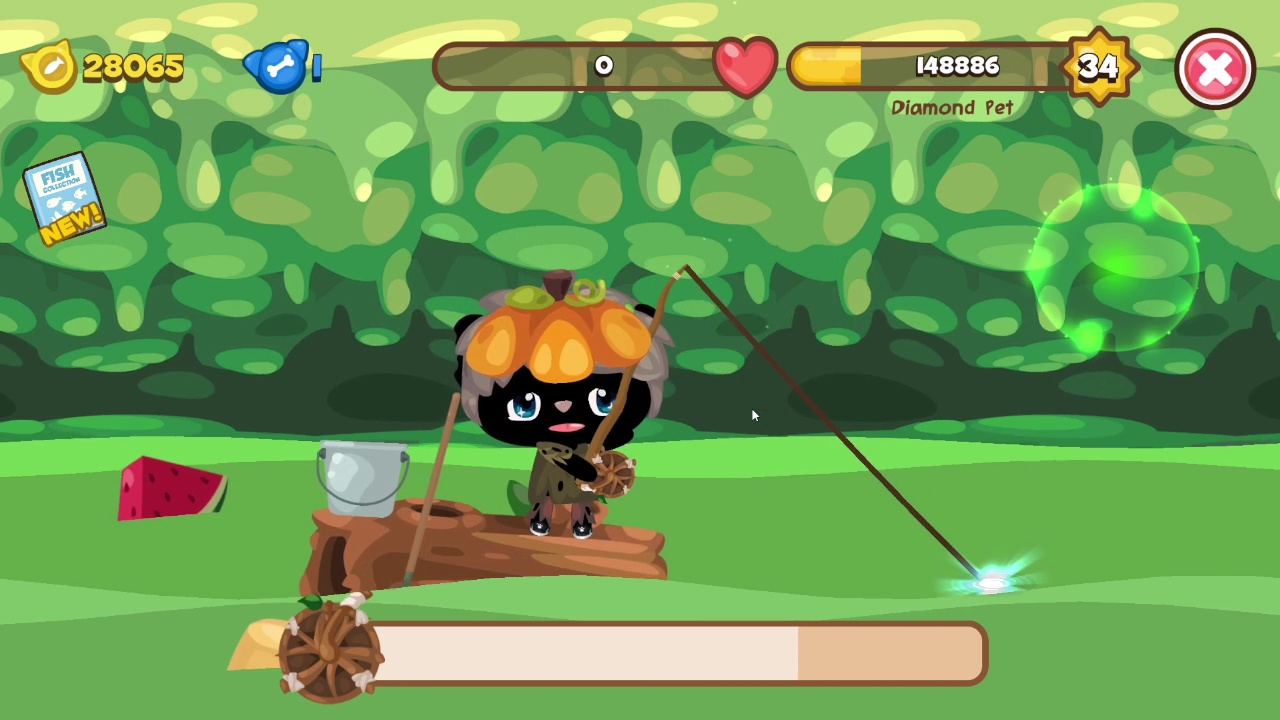point: (1029, 182, 1202, 359)
